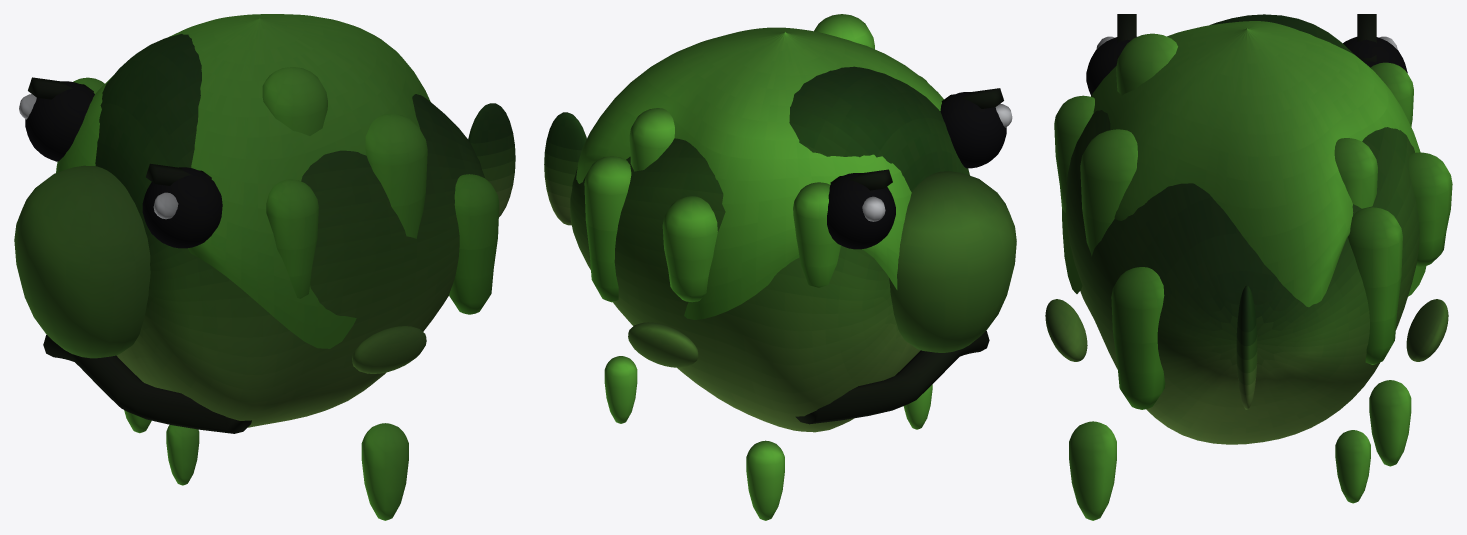
The model's file is Sludge_Blob.glb.
3 renders of one model, left to right at view 1: azimuth 30°, elevation 25°; view 2: azimuth 150°, elevation 25°; view 3: azimuth 270°, elevation 25°, orthographic. The views are drawn at different scales.
Parts seen in each view (by area): view 1: Sludge_Blob; view 2: Sludge_Blob; view 3: Sludge_Blob.
Part boxes in pixels (left/top/right/bottom): Sludge_Blob: left=14, top=14, right=515, bottom=520; Sludge_Blob: left=544, top=14, right=1016, bottom=520; Sludge_Blob: left=1045, top=14, right=1452, bottom=520.
Size of the model in its own units: 1.08 by 0.9745 by 0.7668.
